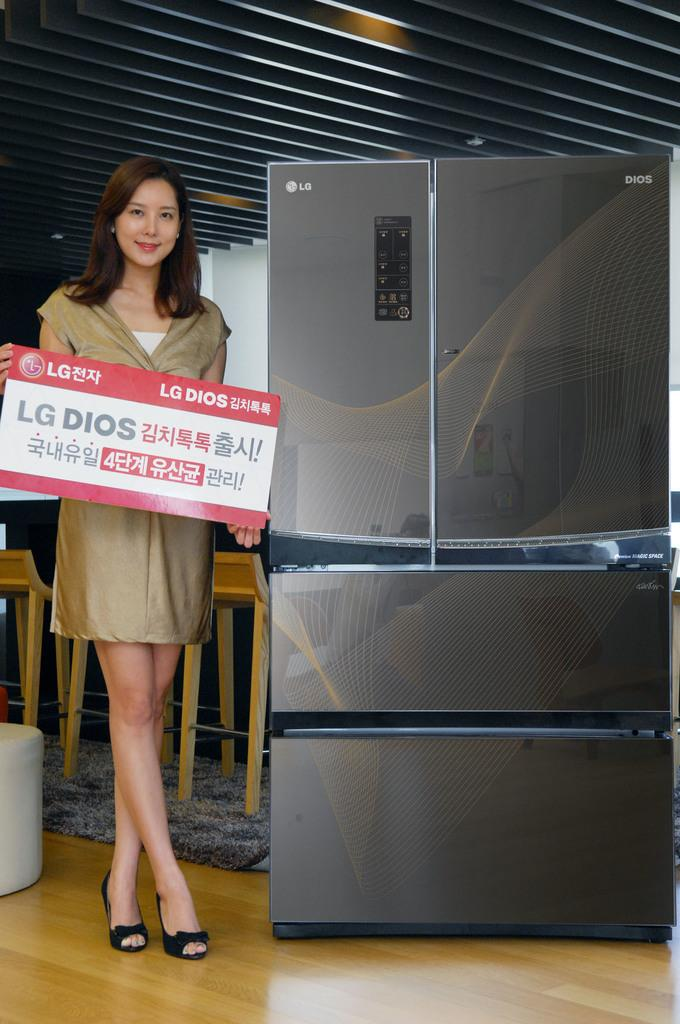handle: (266, 702, 676, 760), (272, 556, 668, 603)
